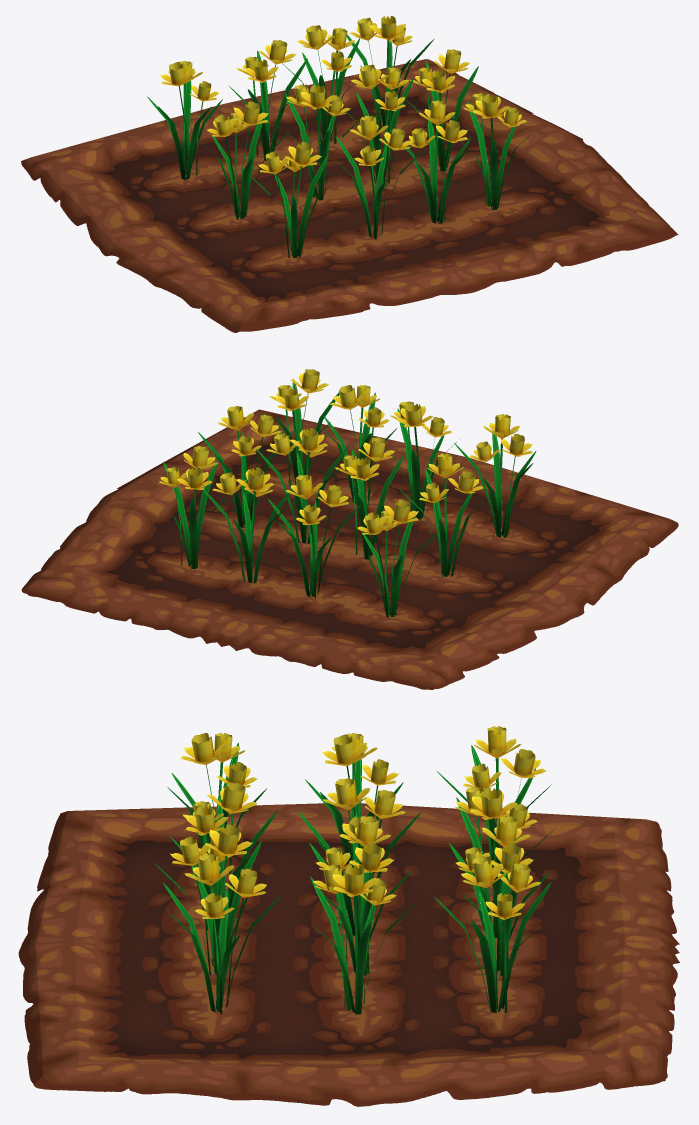
File: Daffodil_Field.FBX
3 renders of one model, top to bottom at view 1: azimuth 30°, elevation 25°; view 2: azimuth 150°, elevation 25°; view 3: azimuth 270°, elevation 25°, orthographic. The views are drawn at different scales.
Visible parts, largest first — view 1: Daffodil_Field, Daffodil_Flower; view 2: Daffodil_Field, Daffodil_Flower; view 3: Daffodil_Field, Daffodil_Flower.
Part boxes in pixels (x1,y1,x2,y2): Daffodil_Field: (21, 59, 678, 332); Daffodil_Flower: (147, 16, 536, 258); Daffodil_Field: (21, 409, 678, 689); Daffodil_Flower: (159, 369, 536, 618); Daffodil_Field: (18, 803, 679, 1106); Daffodil_Flower: (154, 726, 554, 1014).
Bounding box in the file's own units: 296 × 71.93 × 274.
